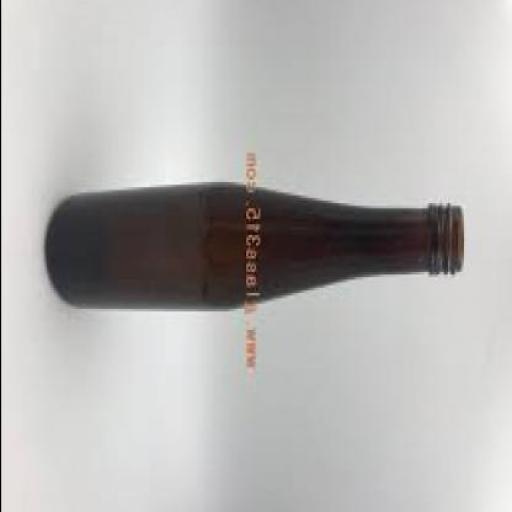glass: (46, 184, 462, 314)
